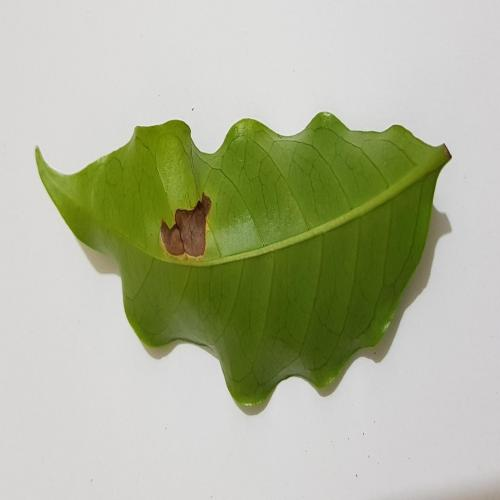leaf: (160, 194, 211, 260)
